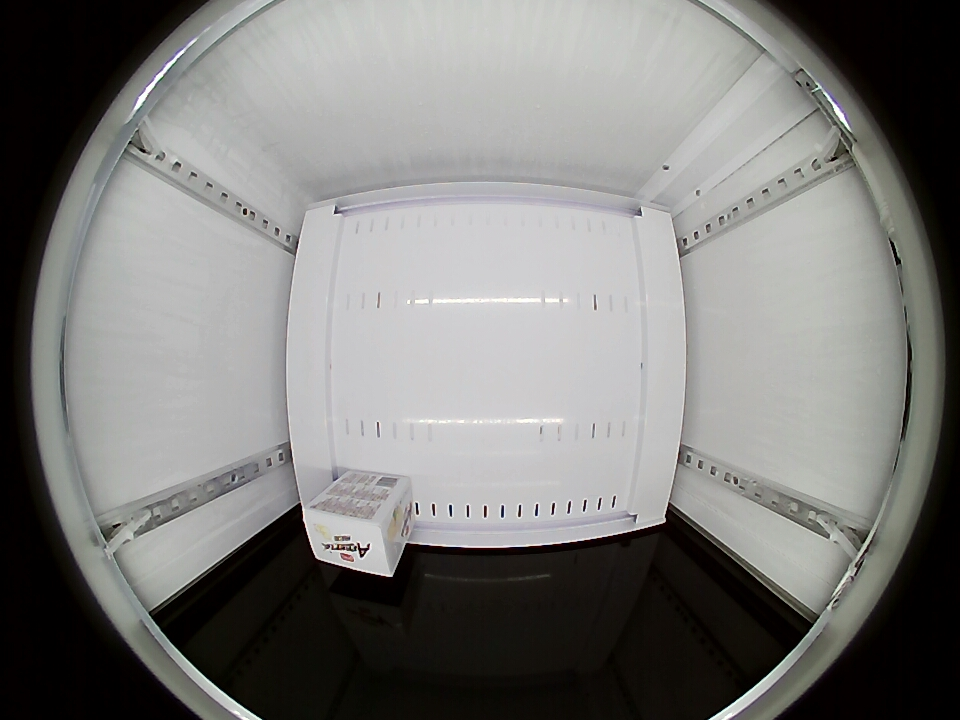meiniye: (302, 489, 403, 579)
